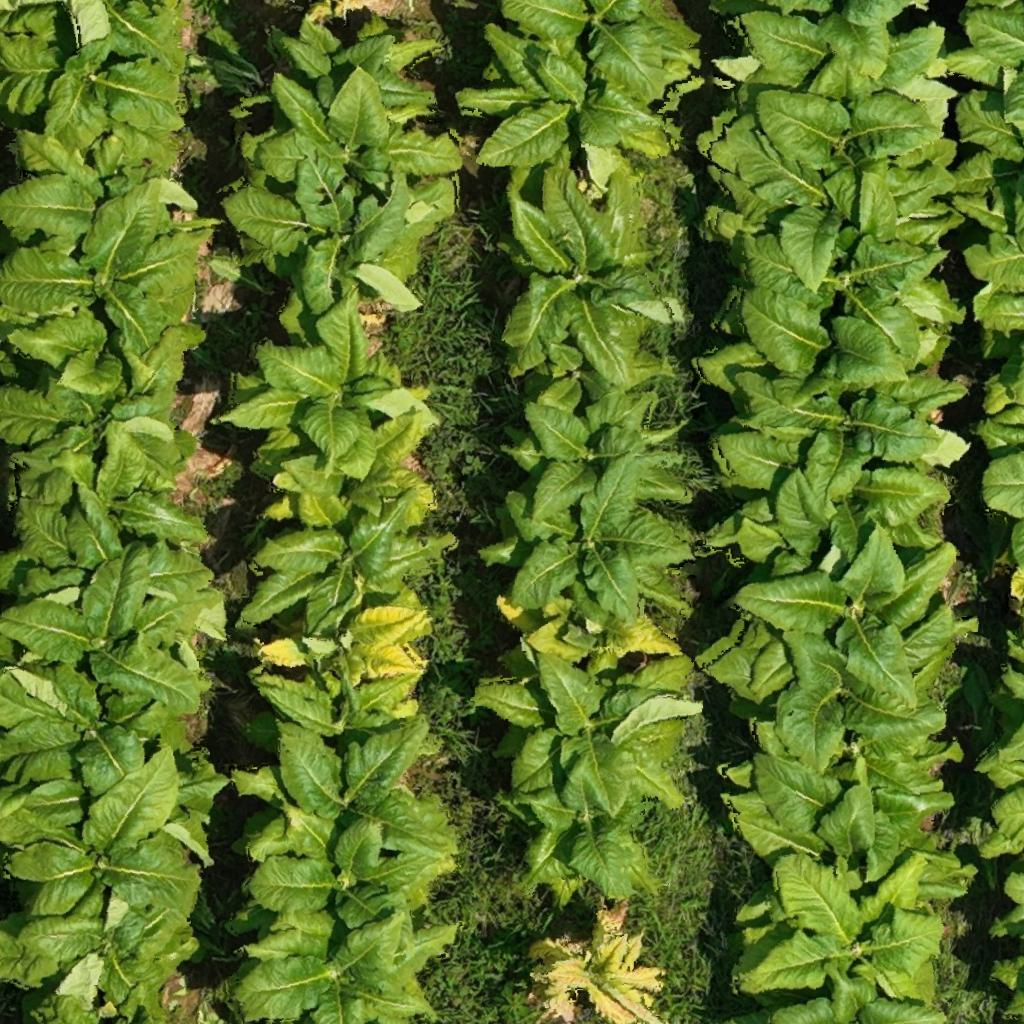disease: (504, 910, 668, 1023), (487, 586, 685, 671), (240, 604, 438, 684)
healthy: (705, 555, 988, 719), (486, 168, 682, 384), (208, 290, 460, 458), (698, 354, 985, 494), (466, 648, 708, 806), (710, 856, 962, 1004), (219, 715, 470, 859), (715, 748, 977, 882), (4, 546, 206, 718), (208, 157, 438, 307), (702, 430, 970, 558), (702, 240, 962, 370), (704, 164, 960, 288), (486, 381, 708, 522), (446, 30, 672, 168), (8, 762, 212, 914), (476, 484, 704, 619), (4, 208, 222, 346), (230, 66, 464, 194), (231, 498, 456, 626), (495, 748, 677, 893), (12, 436, 222, 558), (226, 916, 464, 1022), (238, 804, 436, 928), (724, 11, 966, 111), (1, 135, 222, 236), (4, 24, 190, 142), (2, 905, 187, 1021), (12, 340, 218, 438), (482, 2, 696, 96), (2, 660, 182, 770), (716, 85, 948, 168), (243, 411, 443, 497), (232, 670, 430, 736), (263, 12, 439, 80), (725, 992, 985, 1022)
